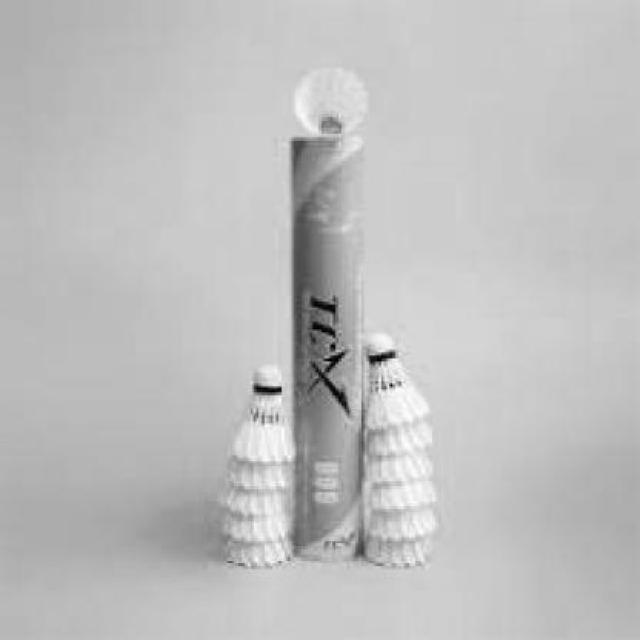Shuttlecock: (228, 362, 297, 463)
